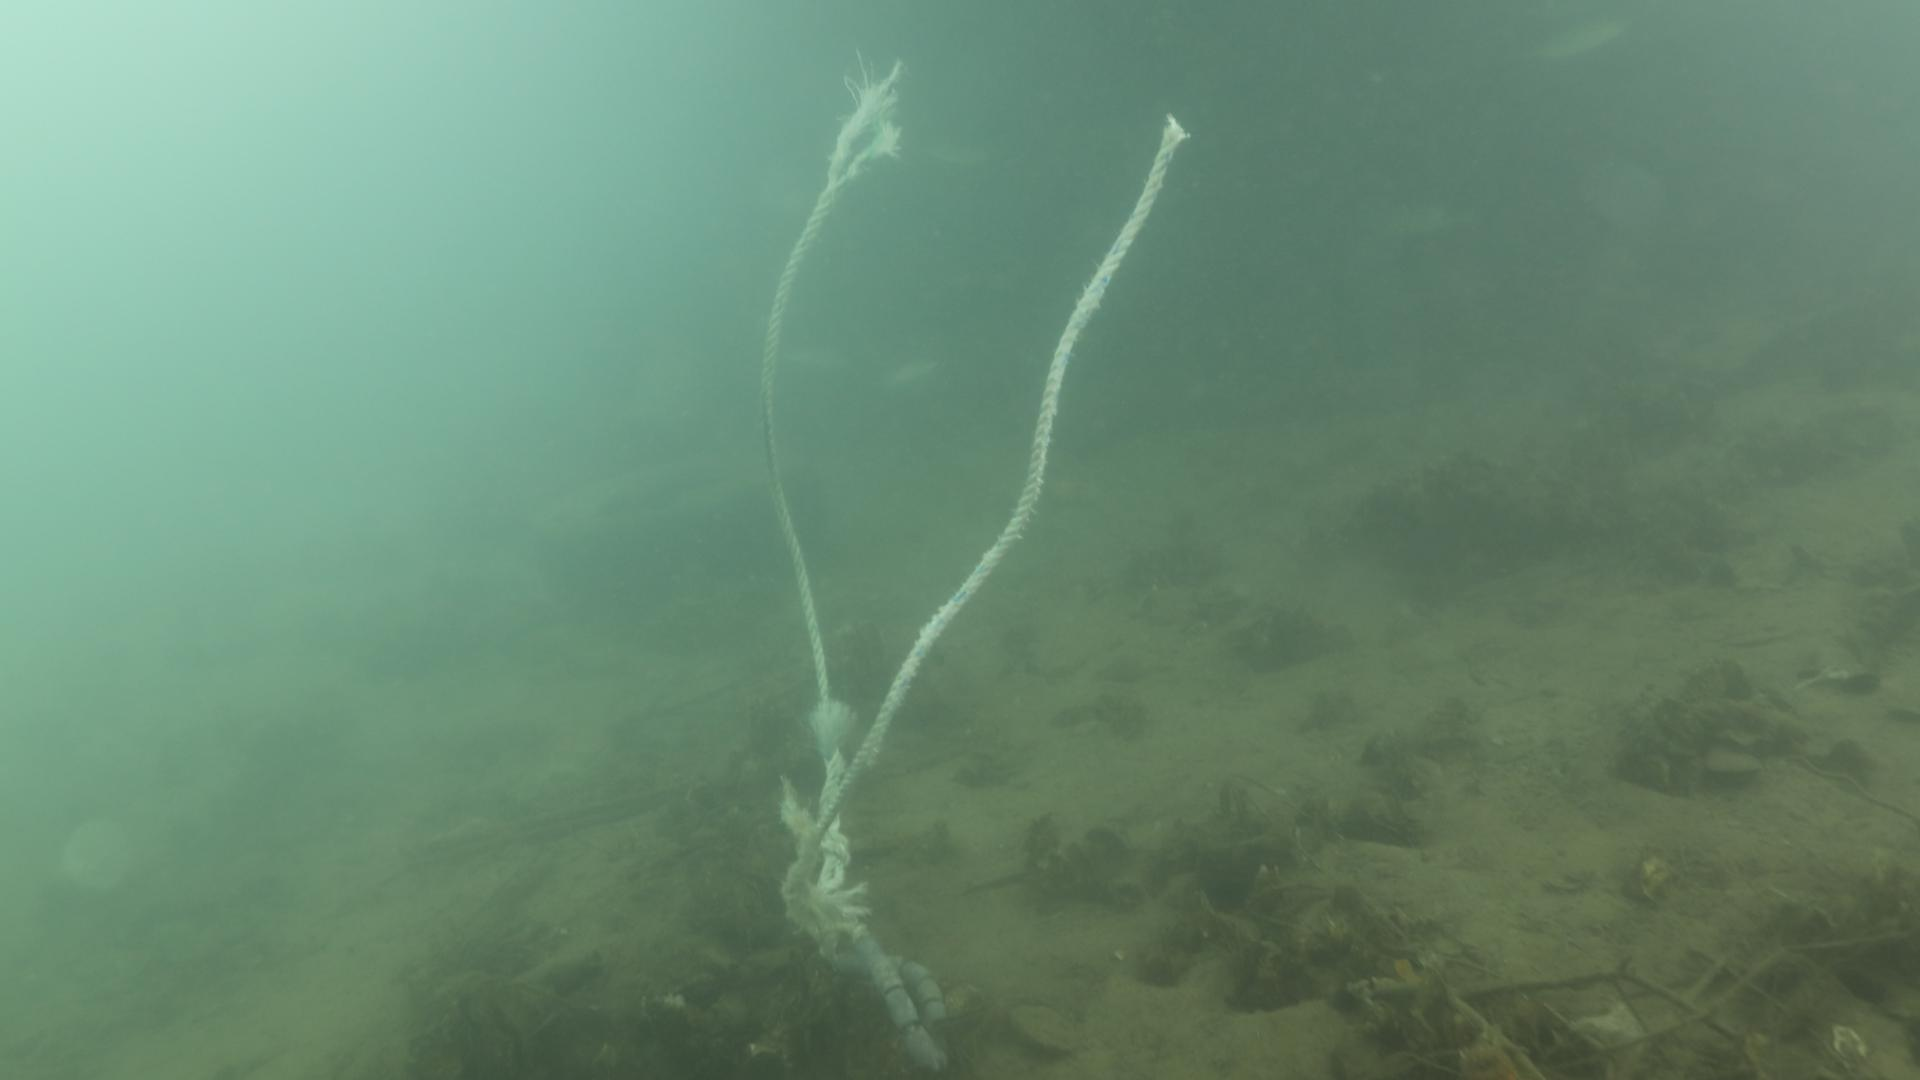bundle of ropes: (757, 109, 1185, 898)
